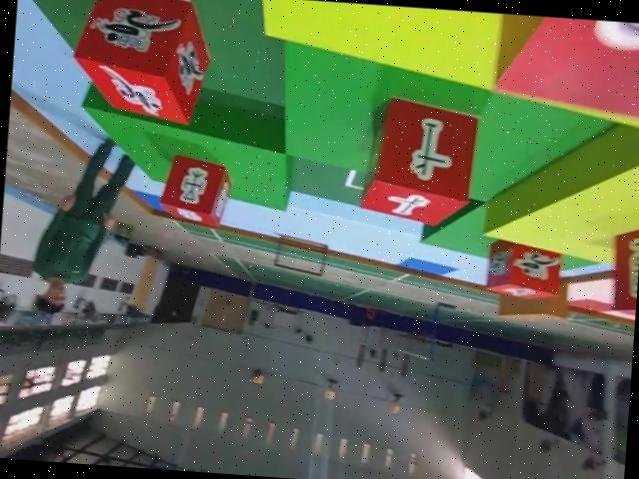R1: (483, 232, 563, 304)
R2 Fake: (607, 220, 639, 325)
R2 Real: (66, 0, 215, 129), (355, 93, 478, 227), (155, 149, 233, 229)
